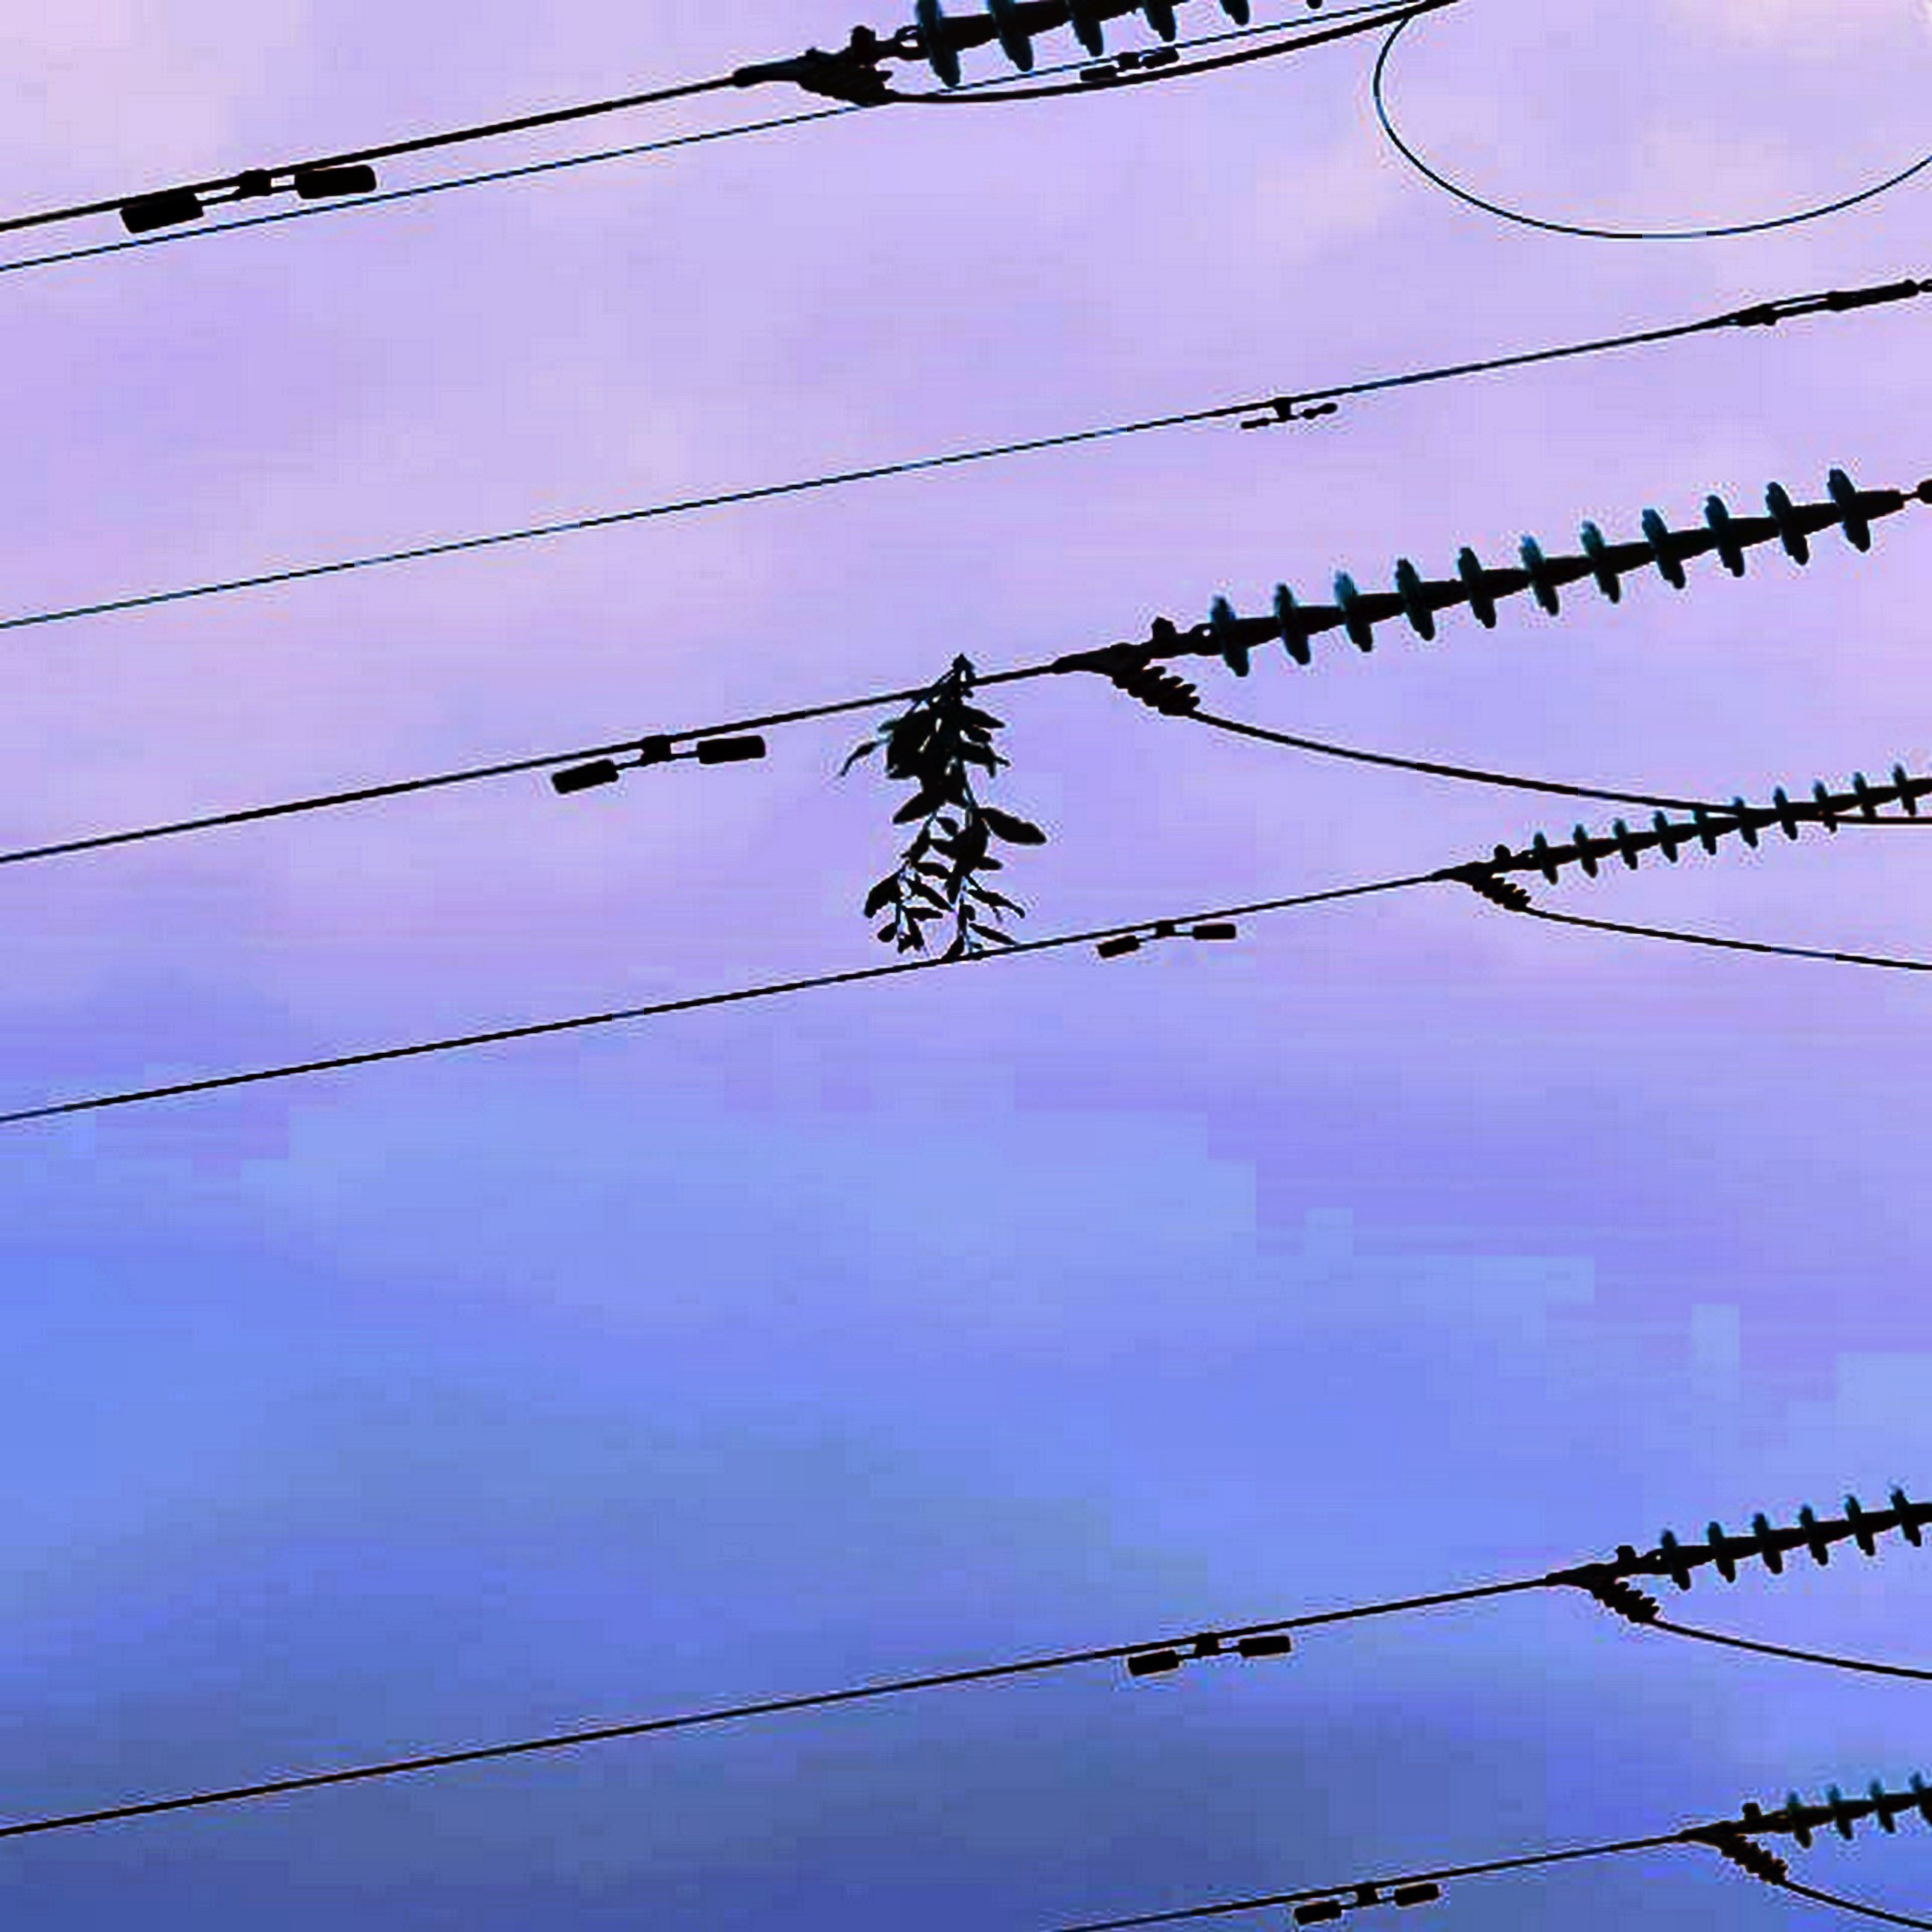wire foreign body: (807, 612, 1065, 968)
